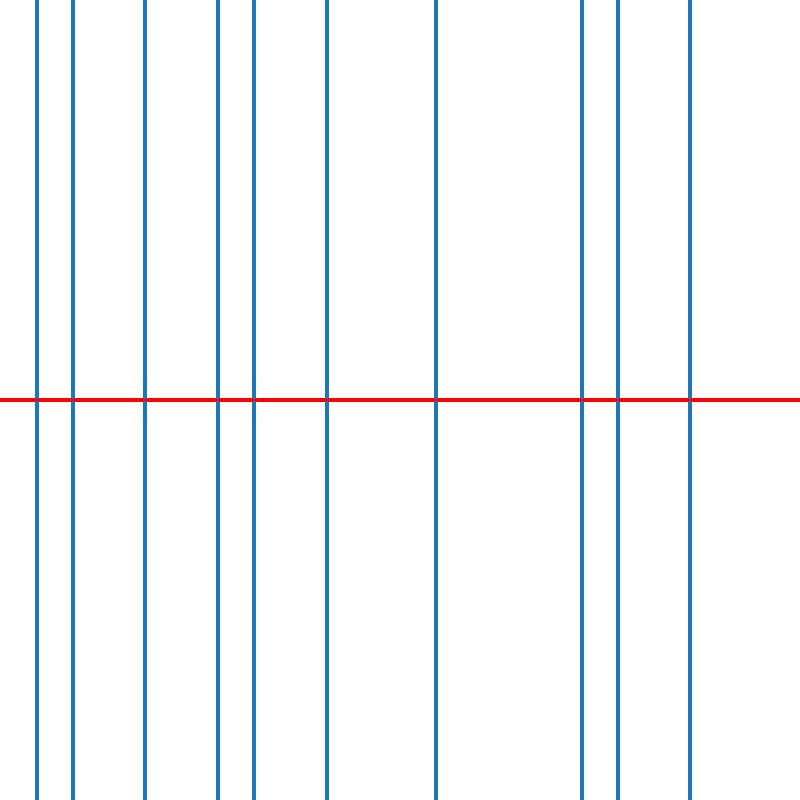root: (432, 396, 440, 404), (141, 396, 149, 404), (250, 396, 258, 404), (32, 396, 40, 404), (214, 396, 221, 404), (323, 396, 330, 404), (578, 396, 585, 404), (687, 396, 694, 404), (614, 396, 621, 404), (69, 396, 76, 404)
